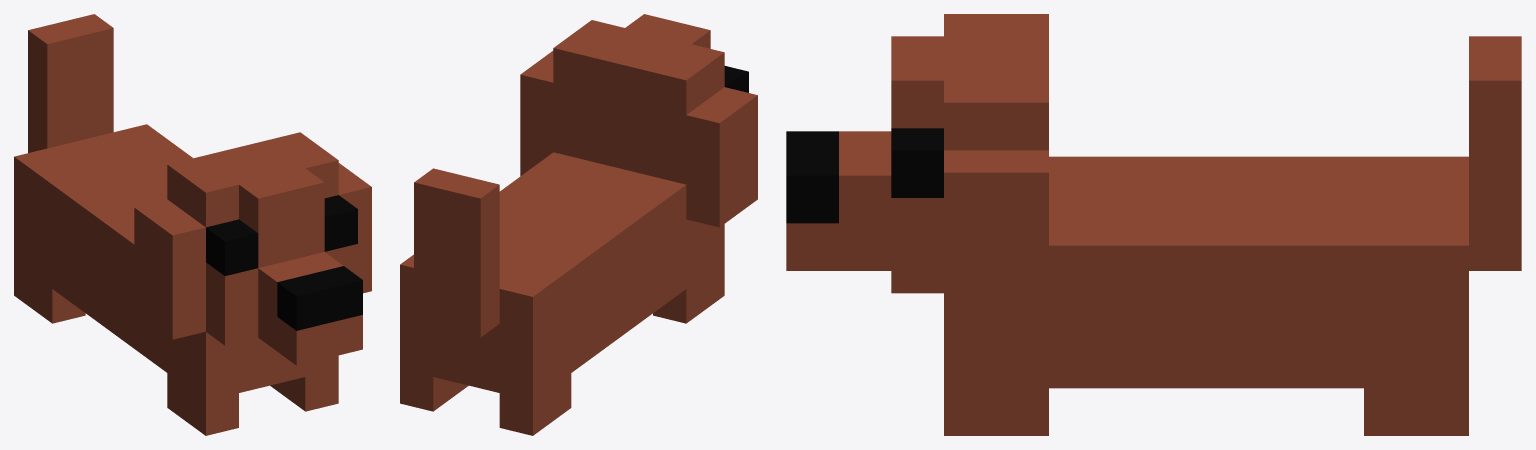
The model's file is BrownDog.obj.
The picture shows the model from 3 angles, left to right: view 1: azimuth 30°, elevation 25°; view 2: azimuth 150°, elevation 25°; view 3: azimuth 270°, elevation 25°; orthographic projection. The views are drawn at different scales.
Bounding box in the file's own units: 0.6 × 0.7 × 1.4.
1 material, 1 textured.
